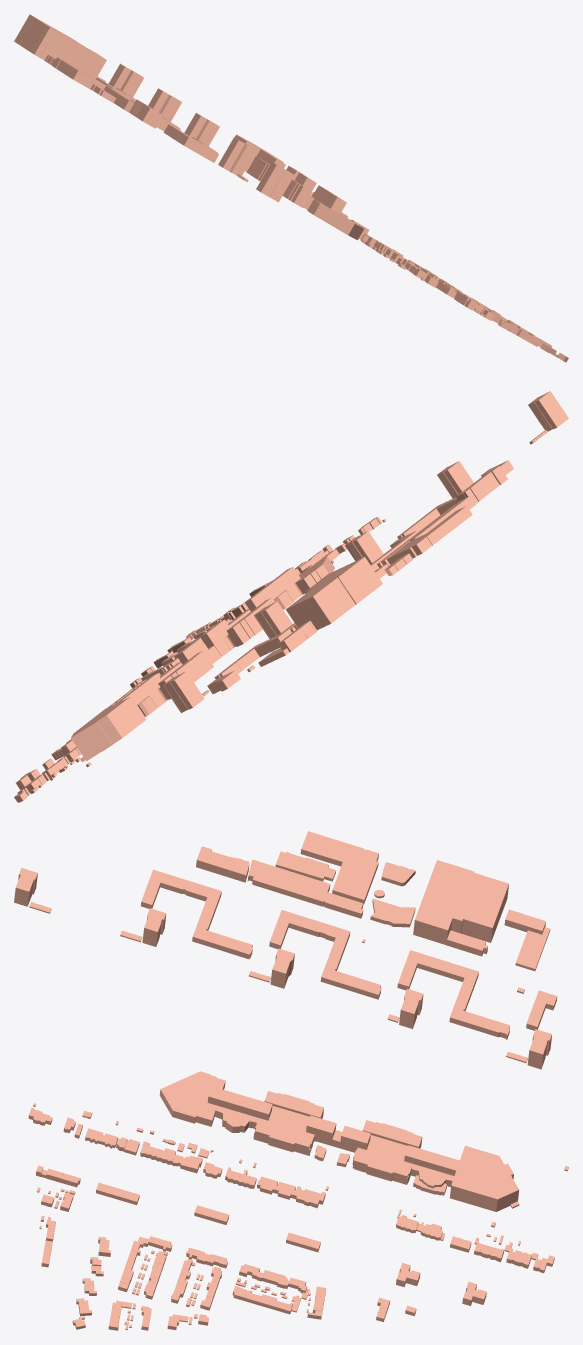
The picture shows the model from 3 angles, top to bottom: view 1: azimuth 30°, elevation 25°; view 2: azimuth 150°, elevation 25°; view 3: azimuth 270°, elevation 25°; orthographic projection. The views are drawn at different scales.
Size of the model in its own units: 511 by 386 by 621.
